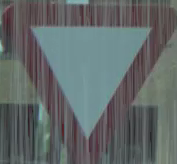Give way: (7, 4, 168, 153)
